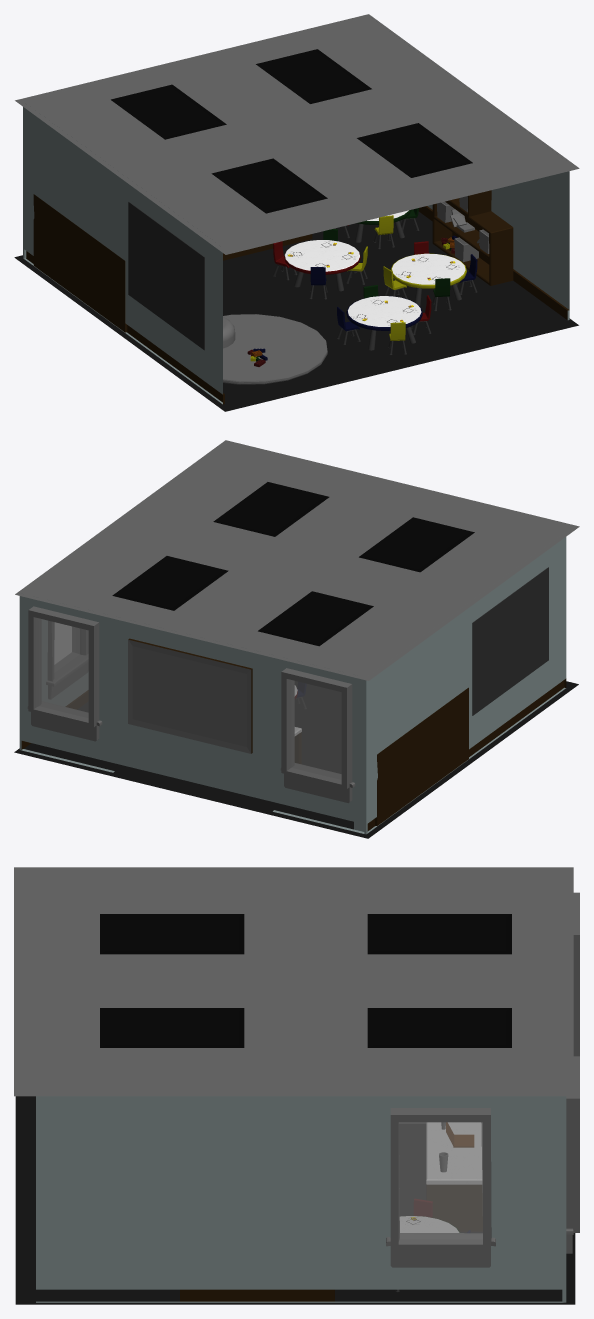
File: DatNewNew3.FBX
3 views of the same model, one above another, from view 1: azimuth 30°, elevation 25°; view 2: azimuth 150°, elevation 25°; view 3: azimuth 270°, elevation 25° (orthographic). The views are drawn at different scales.
Visible parts, largest first — view 1: Floor1, Floor, Walls, WhiteBoard, Cubby, ReadingArea_Carpet, BookShelf_Bottom, Light2, Light4, Light3, Light1, Table_Red (+3 smaller); view 2: Floor1, Walls, FramedPhoto, Floor, Window_Left, Window_Right, WhiteBoard, Cubby, Light4, Light1, Light2, Light3 (+1 smaller); view 3: Floor1, Walls, Window_RightWall, Floor, Light1, Light4, Light2, Light3, Desk_Teacher, Window_Right, BookShelf_Bottom, Window_Left (+1 smaller).
Part boxes in pixels (box(x1,y1,x2,y2)): Floor1: box(15, 14, 579, 254); Floor: box(14, 209, 578, 411); Walls: box(23, 107, 569, 404); WhiteBoard: box(128, 201, 204, 350); Cubby: box(33, 194, 127, 332); ReadingArea_Carpet: box(223, 314, 327, 384); BookShelf_Bottom: box(432, 201, 513, 285); Light2: box(256, 49, 371, 103); Light4: box(211, 158, 327, 213); Light3: box(357, 123, 472, 177); Light1: box(111, 84, 226, 139); Table_Red: box(284, 240, 360, 274); Floor1: box(15, 440, 579, 680); Walls: box(19, 537, 566, 834); FramedPhoto: box(128, 638, 252, 753); Floor: box(14, 681, 578, 838); Window_Left: box(280, 668, 355, 803); Window_Right: box(27, 606, 102, 741); WhiteBoard: box(472, 567, 548, 715); Cubby: box(375, 687, 468, 825); Light4: box(359, 517, 474, 572); Light1: box(258, 591, 373, 646); Light2: box(112, 556, 228, 610); Light3: box(213, 482, 329, 536); Floor1: box(14, 867, 573, 1096); Walls: box(36, 1096, 566, 1302); Window_RightWall: box(386, 1108, 495, 1267); Floor: box(15, 1096, 575, 1304); Light1: box(367, 914, 511, 954); Light4: box(100, 914, 244, 954); Light2: box(367, 1008, 511, 1047); Light3: box(100, 1008, 244, 1047); Desk_Teacher: box(426, 1122, 482, 1231); Window_Right: box(566, 1056, 579, 1253); BookShelf_Bottom: box(180, 1289, 334, 1301); Window_Left: box(573, 892, 579, 1056).
Size of the model in its own units: 9.15 by 3.81 by 9.32.
24 materials, 8 textured.
